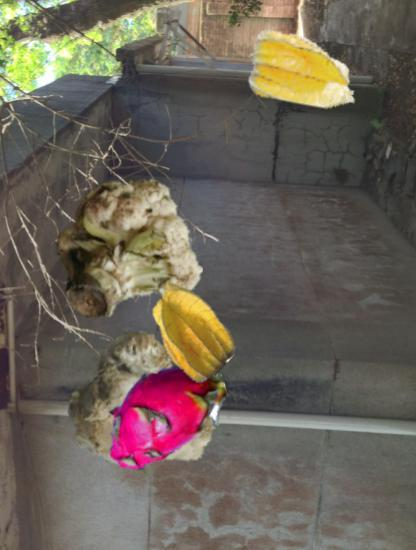Cauliflower: (54, 175, 199, 320)
Ginger: (70, 326, 219, 475)
Physalis: (246, 13, 362, 129), (137, 279, 240, 382)
Pitahaya: (99, 348, 232, 481)
